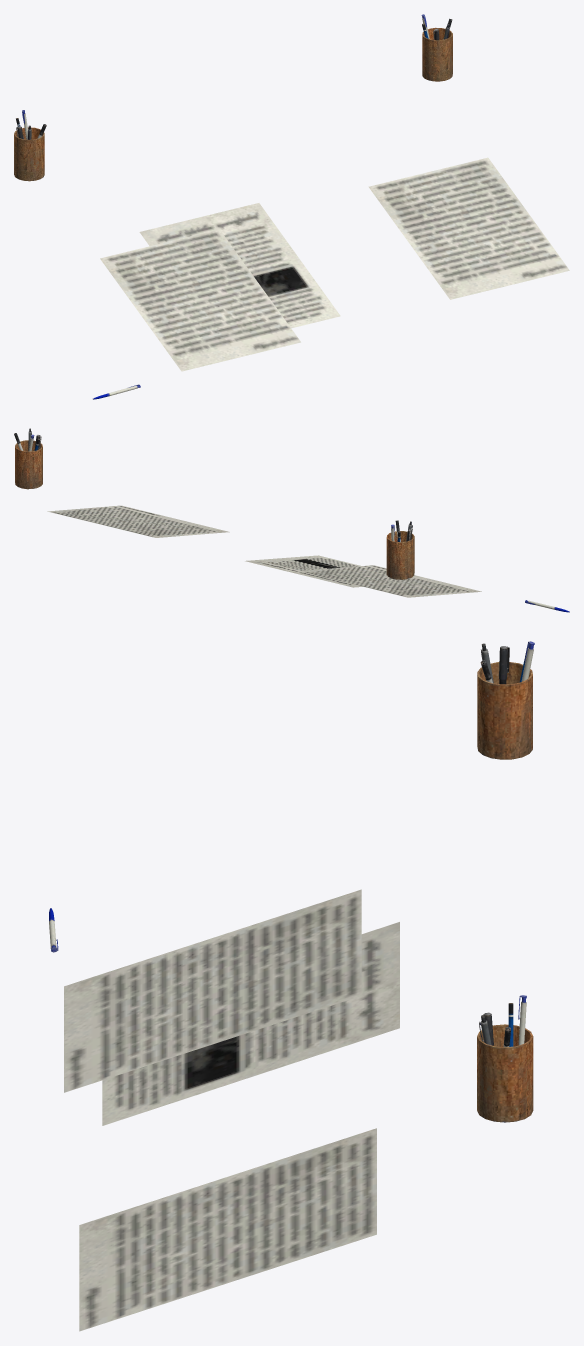
Rendered from sm39_061_standingdeskset01a.fbx.
3 views of the same model, one above another, from view 1: azimuth 30°, elevation 25°; view 2: azimuth 150°, elevation 25°; view 3: azimuth 270°, elevation 25° (orthographic). The views are drawn at different scales.
Parts seen in each view (by area): view 1: LOD_1_Group_0_Sub_2__sm36_049_Paper01A_A_Mat1, LOD_1_Group_0_Sub_1__sm36_031_Penholder01A_E_Mat; view 2: LOD_1_Group_0_Sub_2__sm36_049_Paper01A_A_Mat1, LOD_1_Group_0_Sub_1__sm36_031_Penholder01A_E_Mat; view 3: LOD_1_Group_0_Sub_2__sm36_049_Paper01A_A_Mat1, LOD_1_Group_0_Sub_1__sm36_031_Penholder01A_E_Mat.
Part boxes in pixels (left/top/right/bottom): LOD_1_Group_0_Sub_2__sm36_049_Paper01A_A_Mat1: left=100, top=157, right=569, bottom=371; LOD_1_Group_0_Sub_1__sm36_031_Penholder01A_E_Mat: left=14, top=14, right=452, bottom=399; LOD_1_Group_0_Sub_2__sm36_049_Paper01A_A_Mat1: left=47, top=505, right=481, bottom=597; LOD_1_Group_0_Sub_1__sm36_031_Penholder01A_E_Mat: left=14, top=428, right=569, bottom=612; LOD_1_Group_0_Sub_2__sm36_049_Paper01A_A_Mat1: left=64, top=889, right=399, bottom=1331; LOD_1_Group_0_Sub_1__sm36_031_Penholder01A_E_Mat: left=49, top=641, right=534, bottom=1122.
Size of the model in its own units: 1.19 by 0.4193 by 0.5691.
